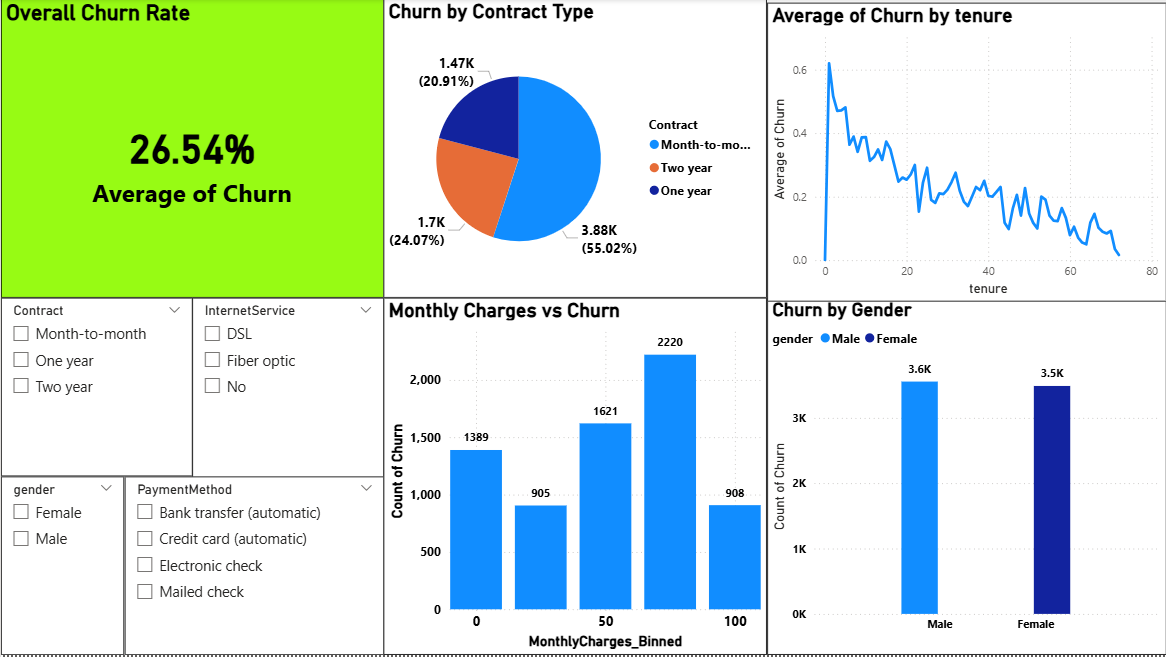

The dashboard page shown, as its layout file describes it:
{"tool":"powerbi","page":{"name":"Page 1","canvas":[1280,720],"ordinal":0},"visuals":[{"type":"clusteredColumnChart","title":"Churn by Gender","fields":{"Category":["cleaned_telecom_data.gender"],"Y":["CountNonNull(cleaned_telecom_data.Churn)"],"Series":["cleaned_telecom_data.gender"]},"box":[841,327.9,438.3,392],"z":1},{"type":"card","title":"Overall Churn Rate","fields":{"Values":["Avg(cleaned_telecom_data.Churn)"]},"box":[0,0,420.5,327.9],"z":2},{"type":"pieChart","title":"Churn by Contract Type","fields":{"Category":["cleaned_telecom_data.Contract"],"Y":["CountNonNull(cleaned_telecom_data.Churn)"]},"box":[420.5,0,420.5,327.9],"z":3},{"type":"lineChart","fields":{"Category":["cleaned_telecom_data.tenure"],"Y":["Avg(cleaned_telecom_data.Churn)"]},"box":[841,3.6,438.3,327.9],"z":4},{"type":"slicer","fields":{"Values":["cleaned_telecom_data.Contract"]},"box":[0,327.9,210.3,196],"z":5},{"type":"slicer","fields":{"Values":["cleaned_telecom_data.gender"]},"box":[0,523.8,135.4,196],"z":6},{"type":"slicer","fields":{"Values":["cleaned_telecom_data.InternetService"]},"box":[210.3,327.9,210.3,199.6],"z":7},{"type":"slicer","fields":{"Values":["cleaned_telecom_data.PaymentMethod"]},"box":[135.4,523.8,285.1,196],"z":8},{"type":"clusteredColumnChart","title":"Monthly Charges vs Churn","fields":{"Category":["cleaned_telecom_data.MonthlyCharges_Binned"],"Y":["CountNonNull(cleaned_telecom_data.Churn)"]},"box":[420.5,327.9,420.5,392],"z":9}]}

Visuals, with their boxes in screenshot pixels (x1, y1, x2, y2), scaled from the page's 1280x720 canvas onto the 1166x657 screenshot:
"Churn by Gender" clusteredColumnChart: bbox(766, 299, 1165, 656)
"Overall Churn Rate" card: bbox(0, 0, 383, 299)
"Churn by Contract Type" pieChart: bbox(383, 0, 766, 299)
lineChart - cleaned_telecom_data.tenure x Avg(cleaned_telecom_data.Churn): bbox(766, 3, 1165, 302)
slicer - cleaned_telecom_data.Contract: bbox(0, 299, 192, 478)
slicer - cleaned_telecom_data.gender: bbox(0, 478, 123, 656)
slicer - cleaned_telecom_data.InternetService: bbox(192, 299, 383, 481)
slicer - cleaned_telecom_data.PaymentMethod: bbox(123, 478, 383, 656)
"Monthly Charges vs Churn" clusteredColumnChart: bbox(383, 299, 766, 656)
